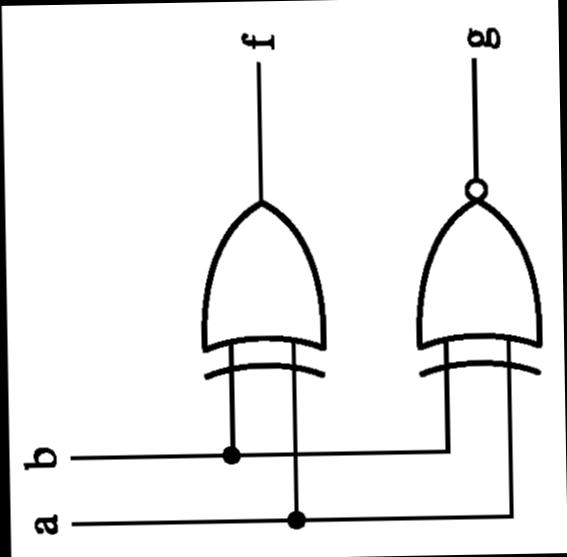xnor: (400, 168, 548, 382)
xor: (190, 187, 331, 384)
